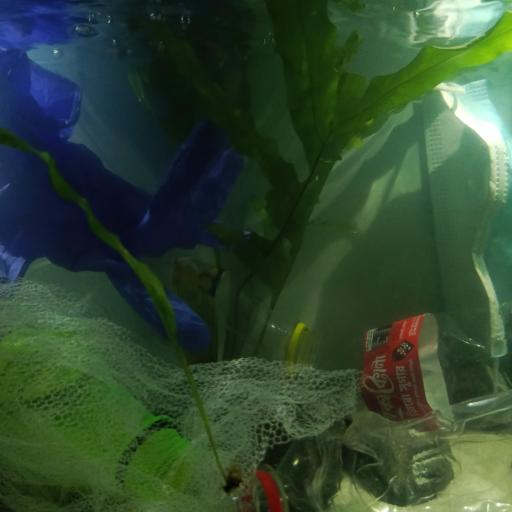glove: (0, 46, 243, 361)
mask: (420, 77, 512, 358)
net: (0, 278, 371, 512)
plastic_bottle: (243, 387, 512, 512), (0, 323, 195, 495), (325, 300, 512, 430), (118, 252, 323, 370)
